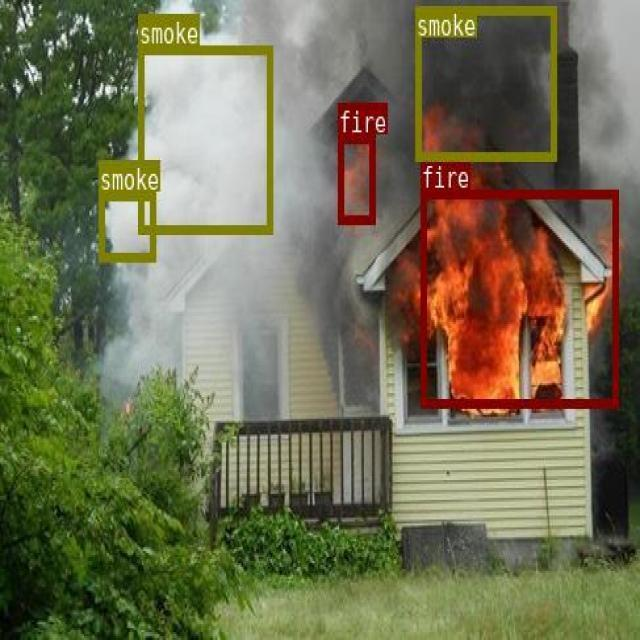fire: (420, 188, 617, 405), (337, 134, 374, 222)
smoke: (137, 45, 272, 232), (414, 6, 555, 159), (97, 190, 154, 259)
